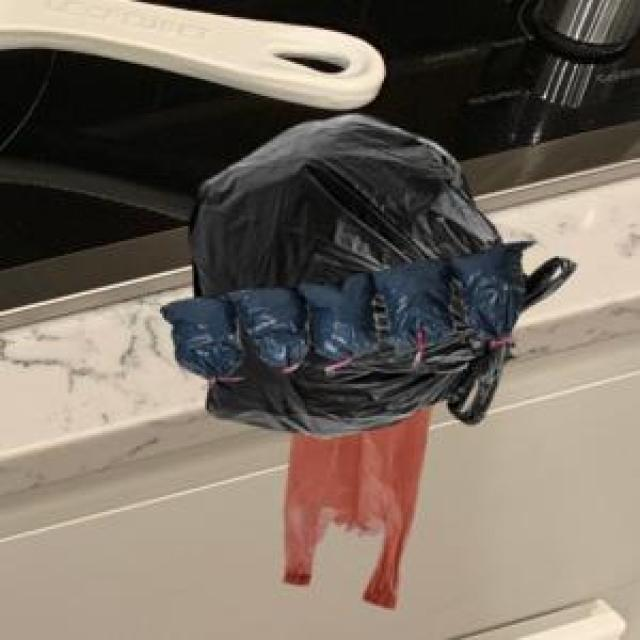miscellaneous trash: (186, 111, 572, 433), (156, 238, 529, 378)
